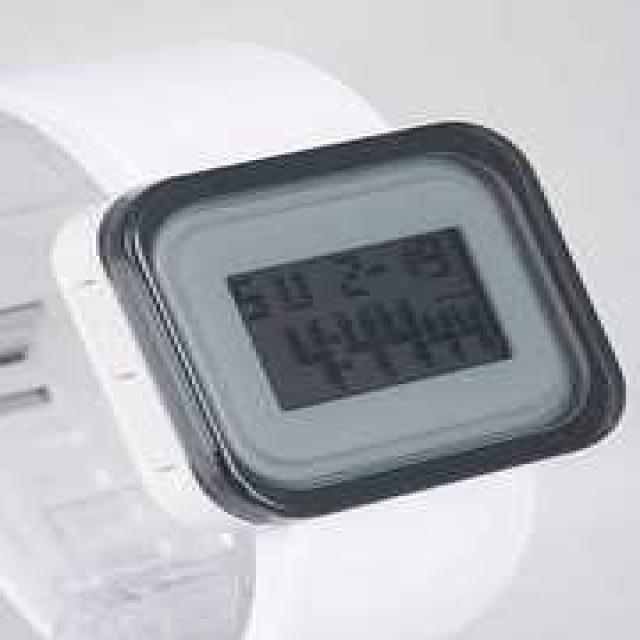watch: (131, 174, 599, 461)
